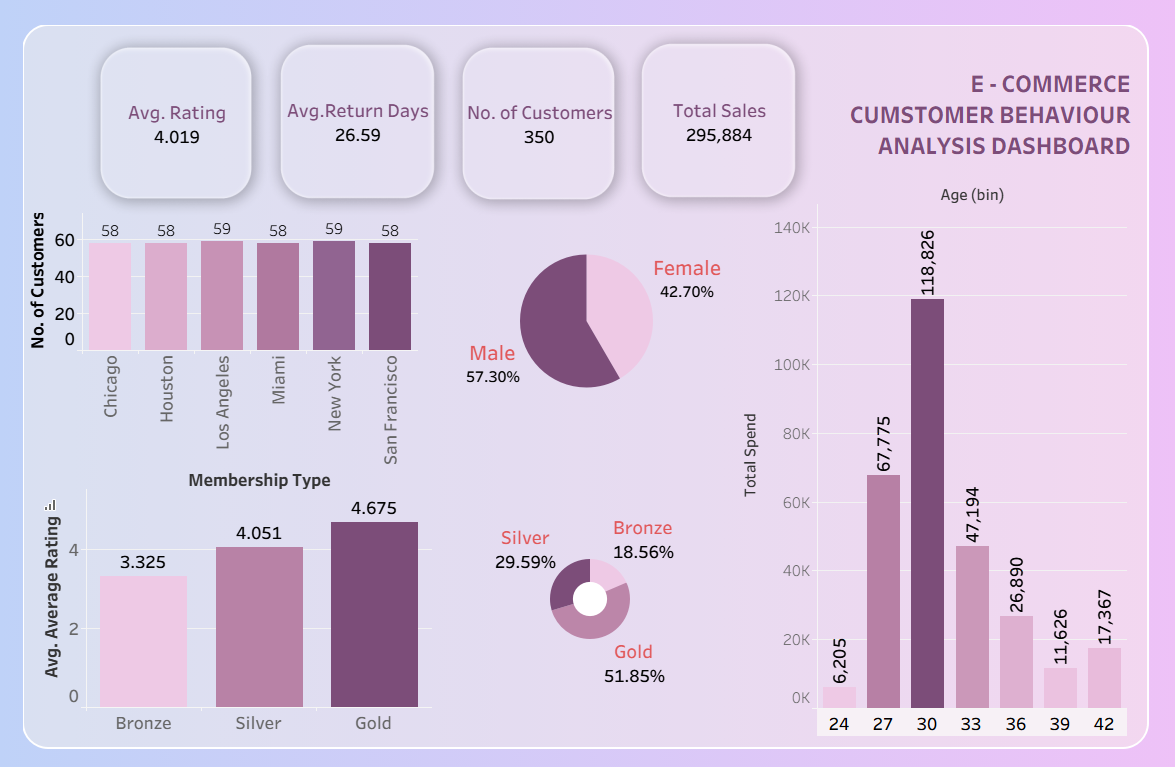

This screenshot's page, from the dashboard's own definition file:
{"tool":"tableau","page":{"name":"Dashboard 1","canvas":[1200,800],"ordinal":0},"visuals":[{"type":"image","param":"Image/Blue - Pink Background.png","box":[8,8,1184,784]},{"type":"text","box":[833,57,313,143]},{"type":"worksheet","title":"Sheet 3","mark":"Bar","rows":["Total Spend"],"cols":["Age (bin)"],"box":[744,198,395,552]},{"type":"worksheet","title":"Sheet 2","mark":"Pie","box":[457,202,283,266]},{"type":"worksheet","title":"Sheet 9","mark":"Automatic","rows":["Customer ID"],"cols":["City"],"box":[30,227,400,257]},{"type":"worksheet","title":"Sheet 16","mark":"Automatic","rows":["Membership Type"],"cols":["City"],"box":[580,330,400,266]},{"type":"worksheet","title":"Sheet 4","mark":"Pie","cols":["Calculation_2360716731863043","Calculation_2360716731863043"],"box":[455,480,294,266]},{"type":"worksheet","title":"Sheet 5","mark":"Bar","rows":["Average Rating"],"cols":["Membership Type"],"box":[44,483,400,266]}]}

Visuals, with their boxes in screenshot pixels (x1, y1, x2, y2), scaled from the page's 1200x800 canvas onto the 1175x767 screenshot:
image: 8, 8, 1167, 759
text: 816, 55, 1122, 192
"Sheet 3" worksheet (Bar marks): 728, 190, 1115, 719
"Sheet 2" worksheet (Pie marks): 447, 194, 725, 449
"Sheet 9" worksheet: 29, 218, 421, 464
"Sheet 16" worksheet: 568, 316, 960, 571
"Sheet 4" worksheet (Pie marks): 446, 460, 733, 715
"Sheet 5" worksheet (Bar marks): 43, 463, 435, 718
